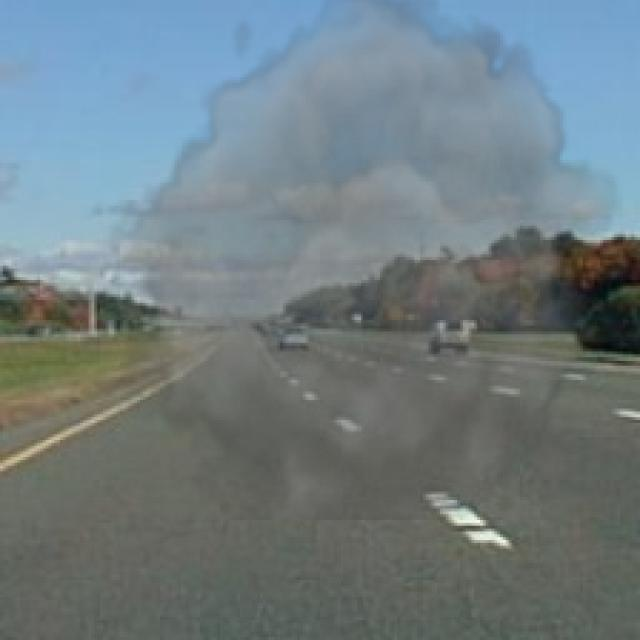smoke: (103, 0, 623, 520)
